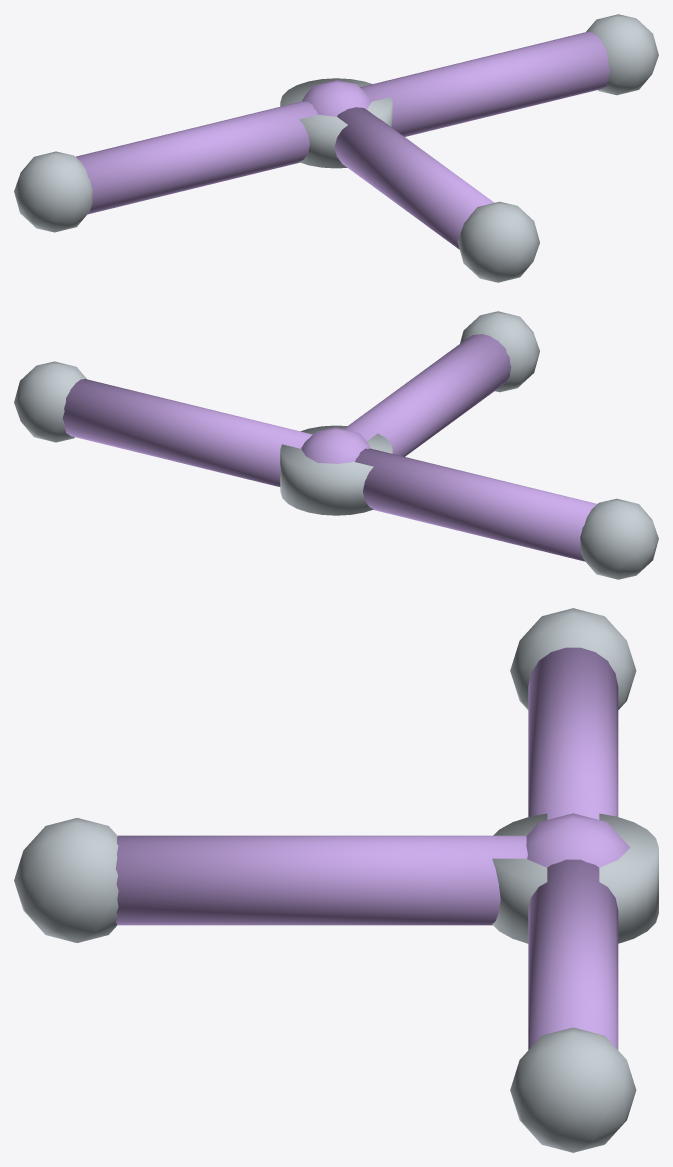
Rendered from conduit_splitter_enhanced.glb.
3 views of the same model, one above another, from view 1: azimuth 30°, elevation 25°; view 2: azimuth 150°, elevation 25°; view 3: azimuth 270°, elevation 25° (orthographic). The views are drawn at different scales.
Visible parts, largest first — view 1: Conduit_purple, Coupler_steel, JunctionCap_steel, Junction_purple; view 2: Conduit_purple, Coupler_steel, JunctionCap_steel, Junction_purple; view 3: Conduit_purple, Coupler_steel, JunctionCap_steel, Junction_purple.
Boxes of the visible parts, x1,y1,x2,y2 form: Conduit_purple: (76, 31, 610, 249); Coupler_steel: (14, 14, 658, 282); JunctionCap_steel: (280, 78, 392, 168); Junction_purple: (302, 80, 371, 116); Conduit_purple: (62, 334, 596, 561); Coupler_steel: (14, 311, 658, 579); JunctionCap_steel: (280, 425, 392, 515); Junction_purple: (301, 427, 370, 463); Conduit_purple: (115, 647, 618, 1049); Coupler_steel: (14, 608, 636, 1152); JunctionCap_steel: (492, 813, 658, 943); Junction_purple: (526, 813, 629, 867).
Bounding box in the file's own units: 2.48 × 0.3 × 1.43.
